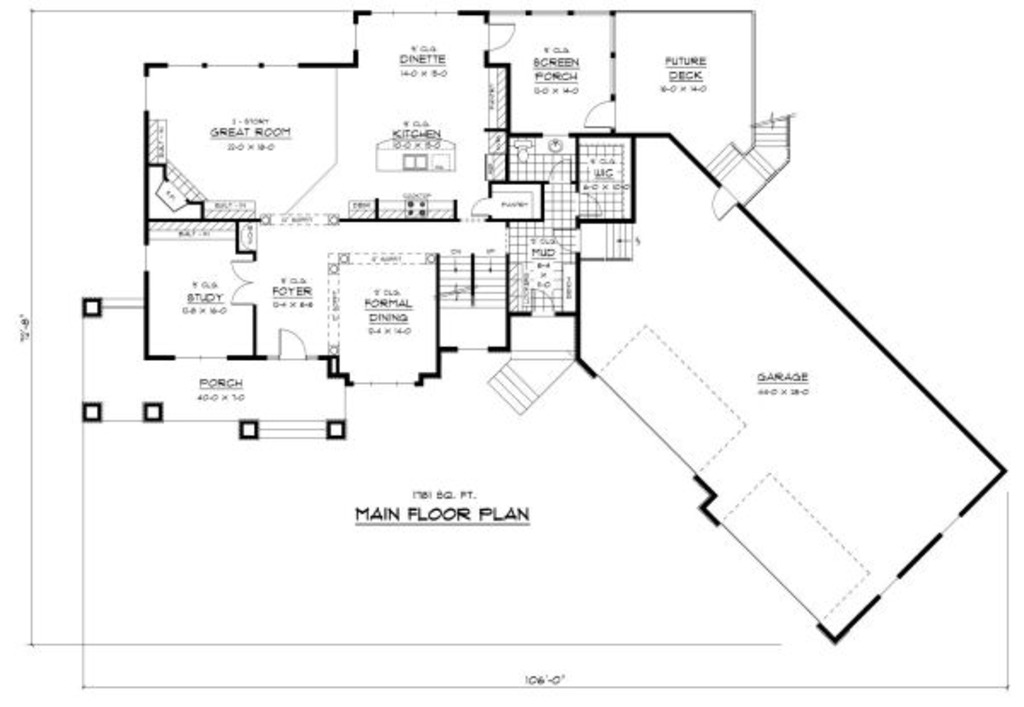door: (227, 253, 257, 309), (274, 327, 311, 365), (484, 19, 516, 51), (581, 100, 615, 130), (467, 192, 491, 218)
kitchen_bar: (373, 128, 462, 177)
small_sink: (532, 133, 580, 156)
stairs: (706, 112, 800, 206), (435, 248, 505, 345), (486, 353, 568, 423), (576, 222, 642, 262)
windows: (162, 58, 302, 74), (169, 353, 233, 365)
